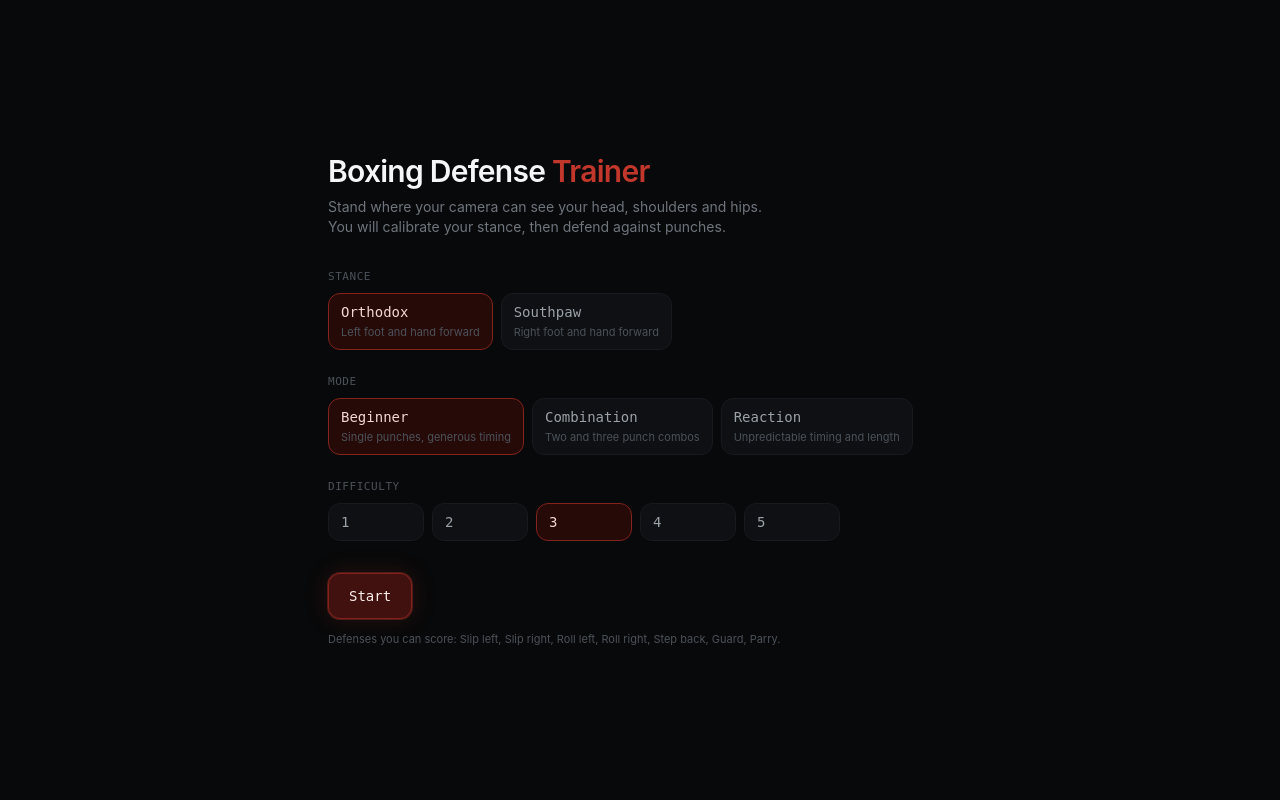
Test: the screen flow › marks the chosen options and carries them into training
Click the button "Southpaw Right foot and hand forward": (586, 321) [501,293,672,350]
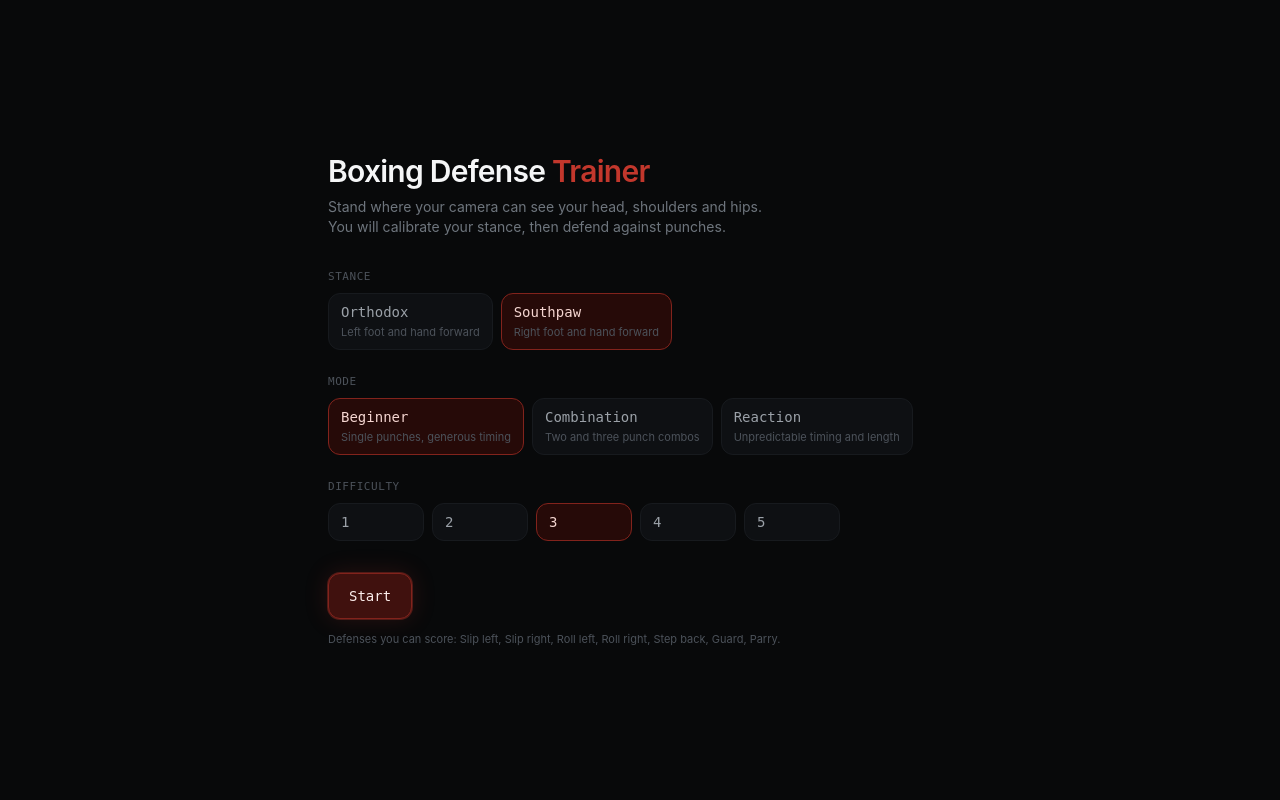
Click the button "Reaction Unpredictable timing and length": (817, 426) [721,398,913,454]
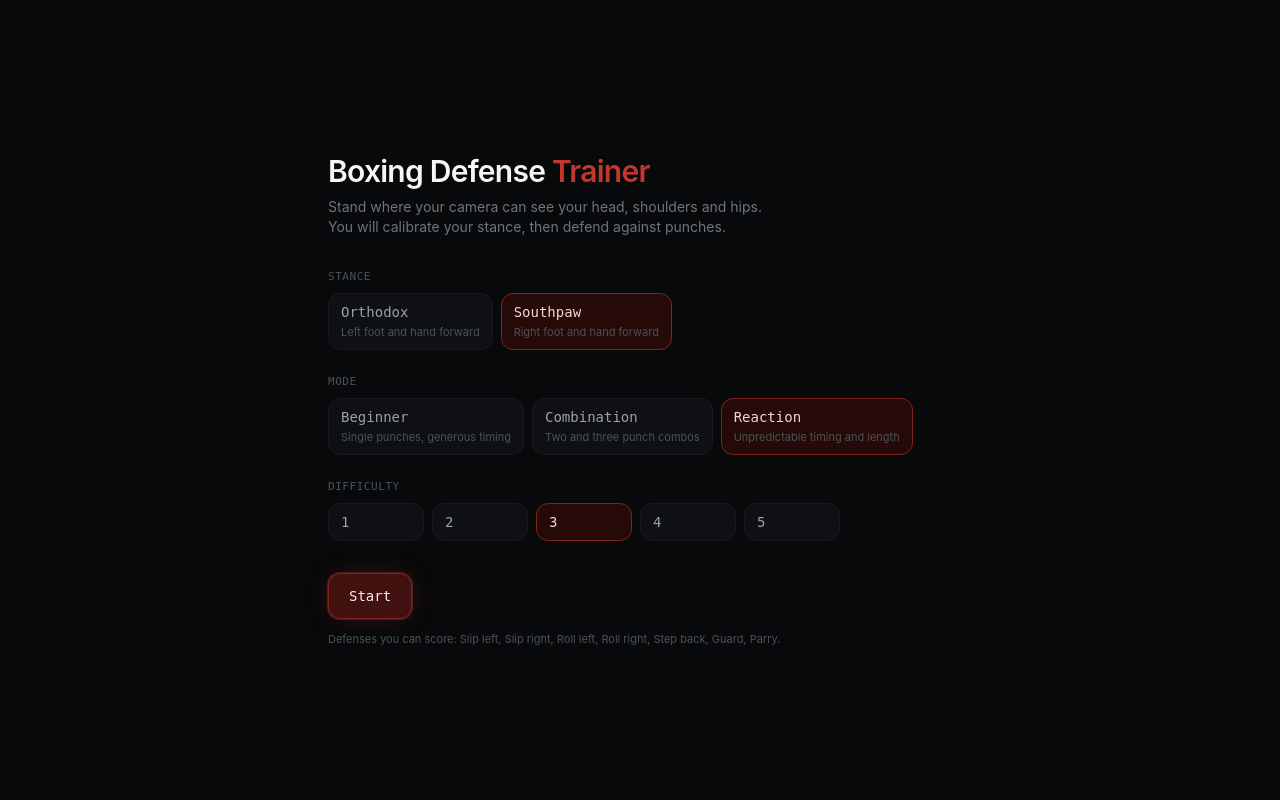
Click the button "4": (688, 522) [640,503,736,541]
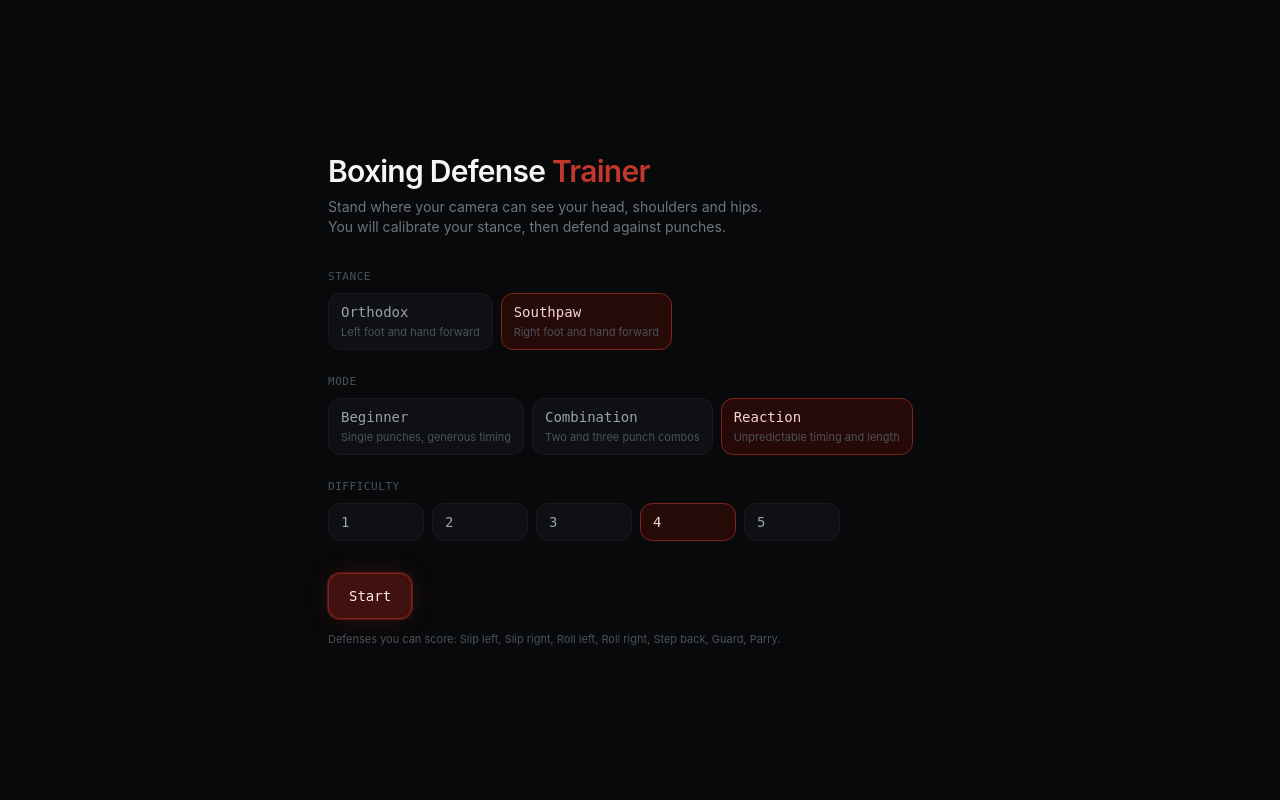
Check: the button "Southpaw Right foot and hand forward" is pressed, box [501,293,672,350]
Click the button "Start": (370, 596) [328,573,412,619]
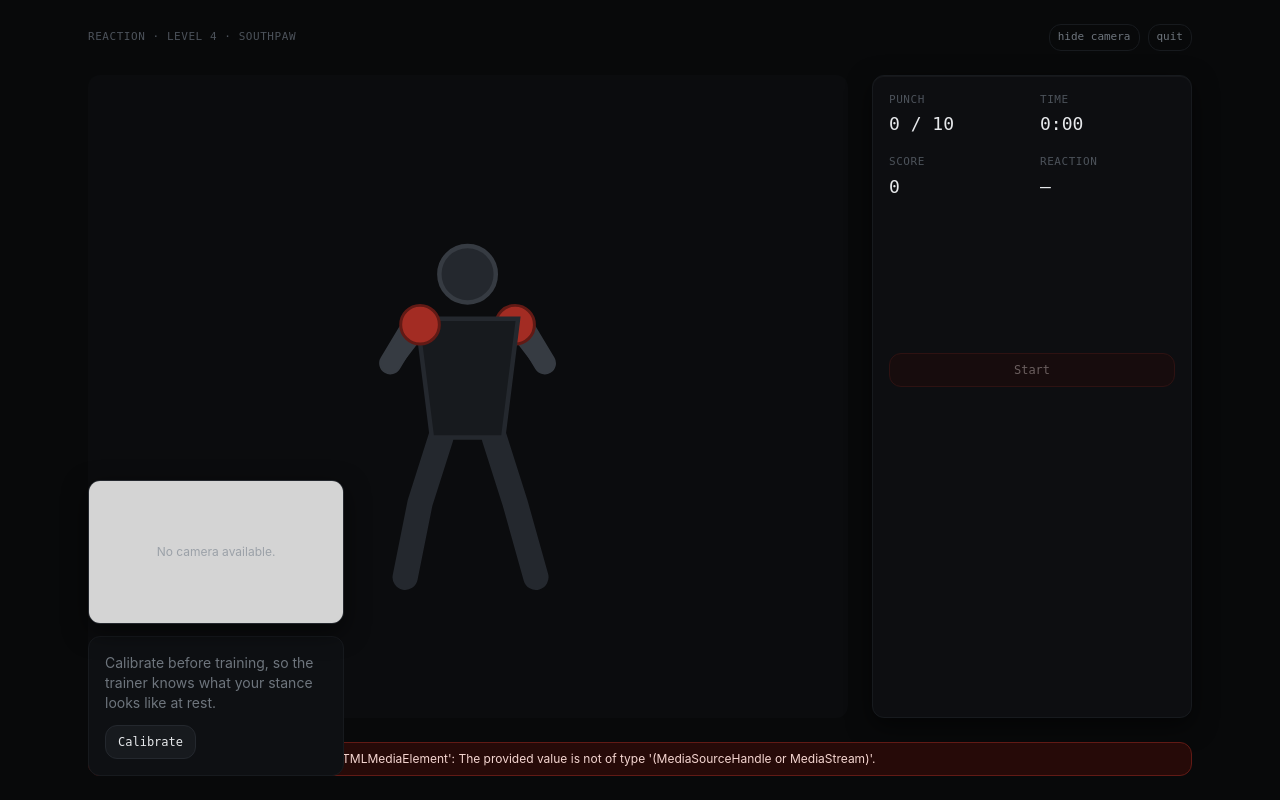
Check: the text "reaction · level 4 · southpaw" is shown, box [88,29,296,46]
